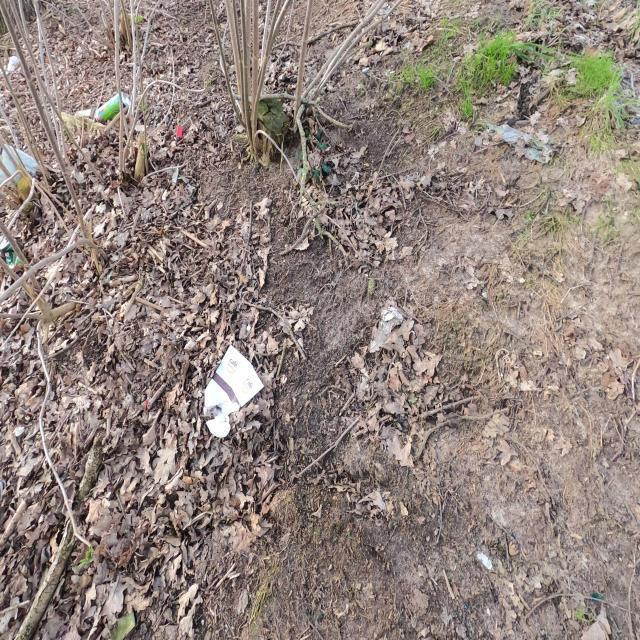Can-Metal: (94, 90, 130, 124), (74, 106, 98, 120)
Cup: (202, 342, 266, 438)
